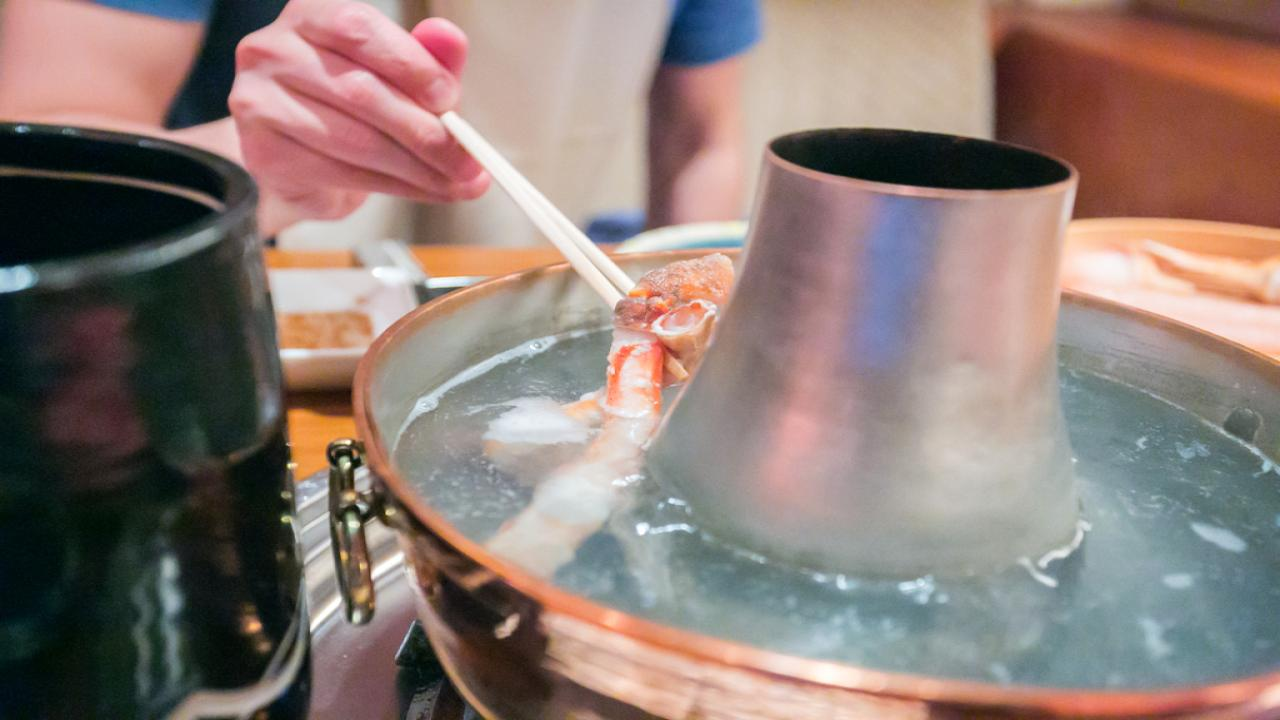chopstick: (432, 111, 634, 310)
